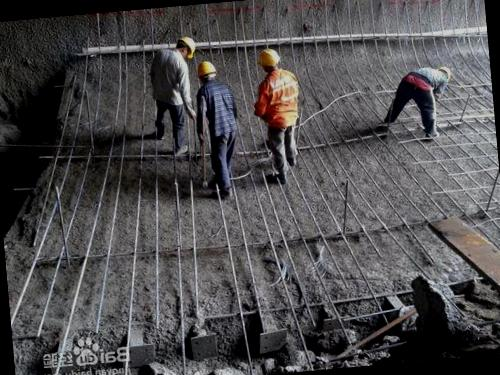helmet: (254, 44, 287, 71), (191, 57, 220, 80)
no_vest: (250, 66, 307, 133), (145, 44, 193, 114), (192, 75, 240, 144)
person: (244, 41, 310, 184), (186, 54, 248, 202), (139, 34, 204, 156), (376, 64, 454, 147)
